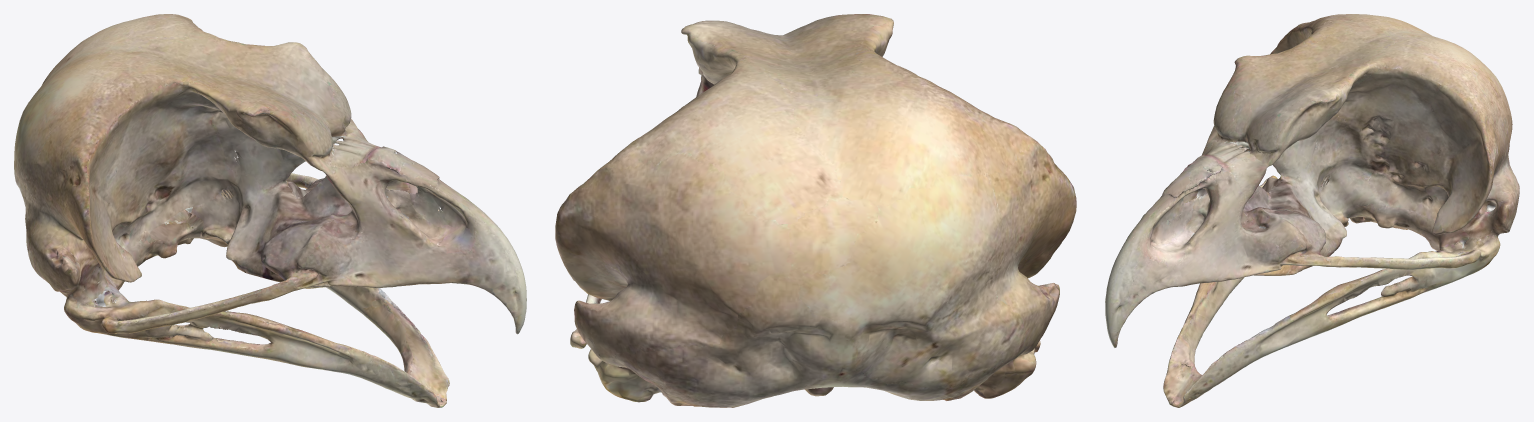
Rendered from buho.glb.
3 views of the same model, side by side, from view 1: azimuth 30°, elevation 25°; view 2: azimuth 150°, elevation 25°; view 3: azimuth 270°, elevation 25° (orthographic). The views are drawn at different scales.
Visible parts, largest first — view 1: Object_2; view 2: Object_2; view 3: Object_2.
Boxes of the visible parts, x1=… form: Object_2: x1=14, y1=14, x2=526, y2=407; Object_2: x1=555, y1=14, x2=1076, y2=407; Object_2: x1=1105, y1=14, x2=1519, y2=407.
Bounding box in the file's own units: 73.38 × 61.42 × 78.93.
Materials: 1 (1 with a texture image).
